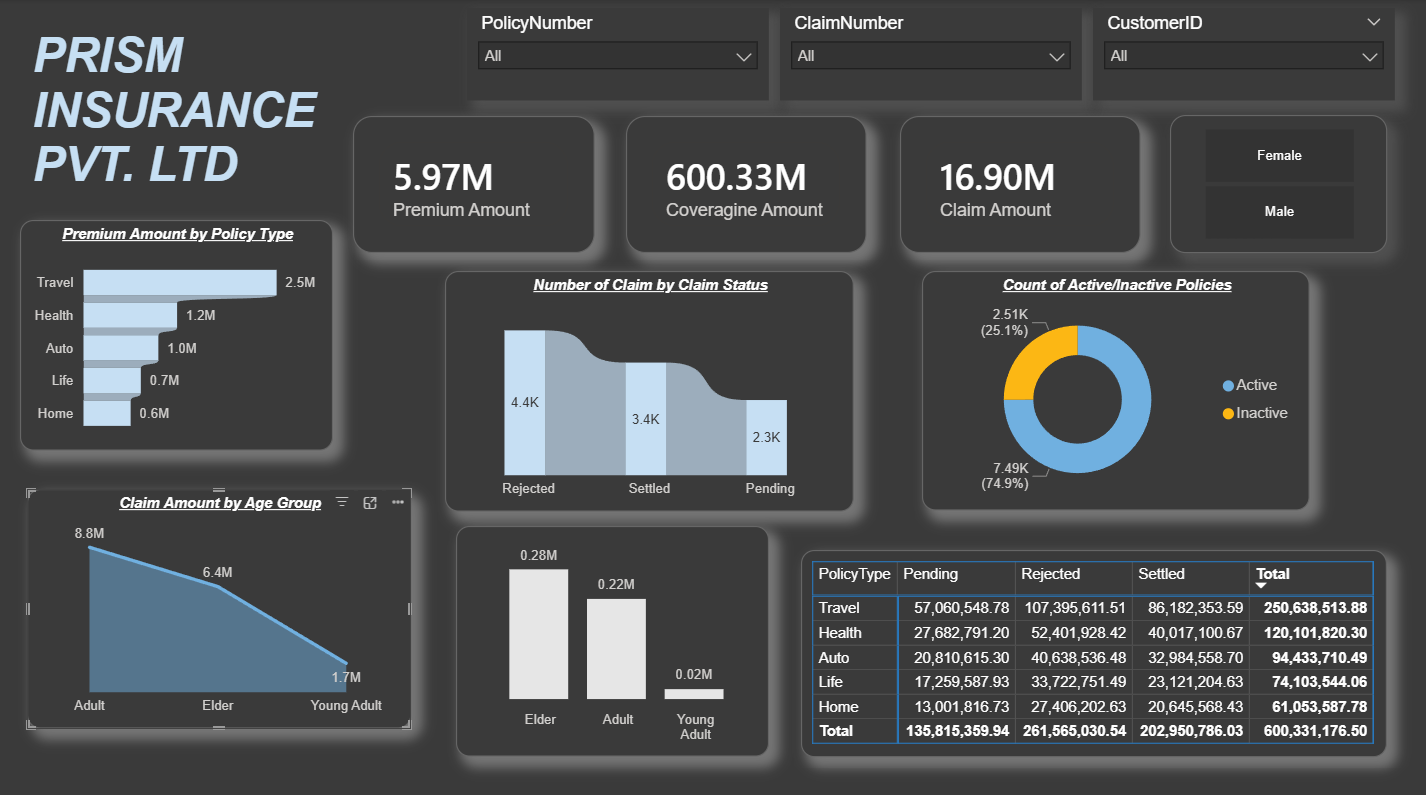

The dashboard page shown, as its layout file describes it:
{"tool":"powerbi","page":{"name":"Page 1","canvas":[1280,720],"ordinal":0},"visuals":[{"type":"slicer","fields":{"Values":["InsuranceData.PolicyNumber"]},"box":[419.2,7.8,271.4,82.7],"z":0},{"type":"slicer","fields":{"Values":["InsuranceData.ClaimNumber"]},"box":[700.3,7.8,271.4,82.7],"z":1000},{"type":"slicer","fields":{"Values":["InsuranceData.CustomerID"]},"box":[981.4,7.8,271.4,82.7],"z":2000},{"type":"textbox","box":[24.3,21.4,286,166.3],"z":3000},{"type":"cardVisual","fields":{"Data":["Sum(InsuranceData.PremiumAmount)"]},"box":[317.1,105,216.9,122.6],"z":4000},{"type":"cardVisual","fields":{"Data":["Sum(InsuranceData.CoveragineAmount)"]},"box":[562.2,105,215.9,122.6],"z":4001},{"type":"cardVisual","fields":{"Data":["Sum(InsuranceData.ClaimAmount)"]},"box":[808.3,105,215.9,122.6],"z":4002},{"type":"slicer","fields":{"Values":["InsuranceData.Gender"]},"box":[1050.4,104.1,194.8,123.9],"z":4003},{"type":"ribbonChart","title":"Number of Claim by Claim Status","fields":{"Category":["InsuranceData.ClaimStatus"],"Y":["CountNonNull(InsuranceData.ClaimStatus)"]},"box":[399.5,244.2,367.2,216.4],"z":4004},{"type":"barChart","title":" Premium Amount by Policy Type","fields":{"Y":["Sum(InsuranceData.PremiumAmount)"],"Category":["InsuranceData.PolicyType"]},"box":[18,198.4,281,207.4],"z":4005},{"type":"lineChart","title":"Claim Amount by Age Group","fields":{"Category":["InsuranceData.Age Group"],"Y":["Sum(InsuranceData.ClaimAmount)"]},"box":[24.2,439.9,344.7,215.5],"z":4006},{"type":"donutChart","title":"Count of Active/Inactive Policies ","fields":{"Category":["InsuranceData.Active/Inactive"],"Y":["CountNonNull(InsuranceData.Active/Inactive)"]},"box":[827.7,244.2,348.3,215.5],"z":4007},{"type":"pivotTable","fields":{"Values":["Sum(InsuranceData.CoveragineAmount)"],"Rows":["InsuranceData.PolicyType"],"Columns":["InsuranceData.ClaimStatus"]},"box":[719.1,494.7,526.1,185.8],"z":4008},{"type":"clusteredColumnChart","fields":{"Category":["InsuranceData.Age Group"],"Y":["Sum(InsuranceData.Age)"]},"box":[409.4,473.1,281,207.4],"z":4009}]}

Visuals, with their boxes in screenshot pixels (x1, y1, x2, y2), scaled from the page's 1280x720 canvas onto the 1426x795 screenshot:
slicer - InsuranceData.PolicyNumber: region(467, 9, 769, 100)
slicer - InsuranceData.ClaimNumber: region(780, 9, 1083, 100)
slicer - InsuranceData.CustomerID: region(1093, 9, 1396, 100)
textbox: region(27, 24, 346, 207)
cardVisual - Sum(InsuranceData.PremiumAmount): region(353, 116, 595, 251)
cardVisual - Sum(InsuranceData.CoveragineAmount): region(626, 116, 867, 251)
cardVisual - Sum(InsuranceData.ClaimAmount): region(900, 116, 1141, 251)
slicer - InsuranceData.Gender: region(1170, 115, 1387, 252)
"Number of Claim by Claim Status" ribbonChart: region(445, 270, 854, 509)
" Premium Amount by Policy Type" barChart: region(20, 219, 333, 448)
"Claim Amount by Age Group" lineChart: region(27, 486, 411, 724)
"Count of Active/Inactive Policies " donutChart: region(922, 270, 1310, 508)
pivotTable - Sum(InsuranceData.CoveragineAmount) x InsuranceData.PolicyType: region(801, 546, 1387, 751)
clusteredColumnChart - InsuranceData.Age Group x Sum(InsuranceData.Age): region(456, 522, 769, 751)
